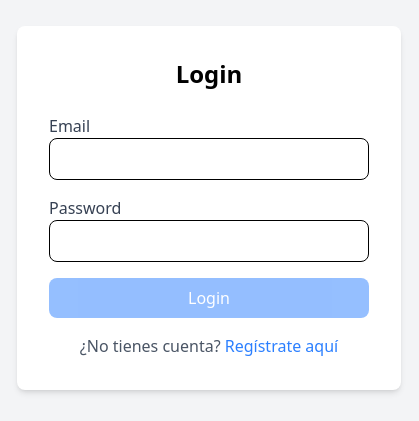
Test: LoginComponent E2E Tests › debería mostrar error por contraseña demasiado corta
Type "test@email.com" into the field named "email" at (209, 159), box [49,138,369,180]
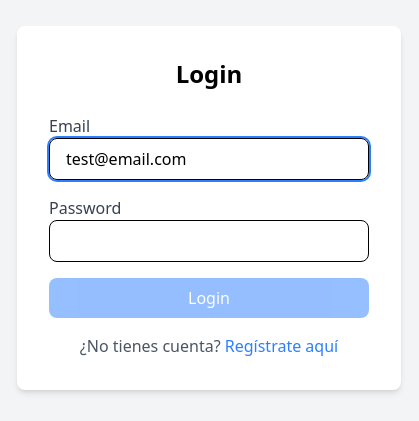
Type "123" into the password field named "password" at (209, 241), box [49,220,369,262]
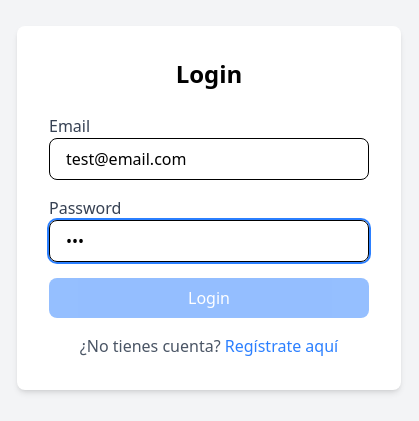
Leave the password field named "password", box [49,220,369,262]
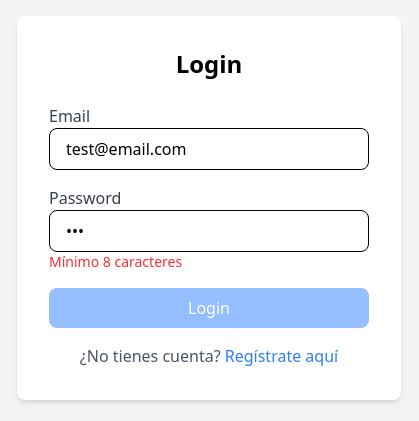
Check: the text "Mínimo 8 caracteres" is shown, box [49,252,182,271]
